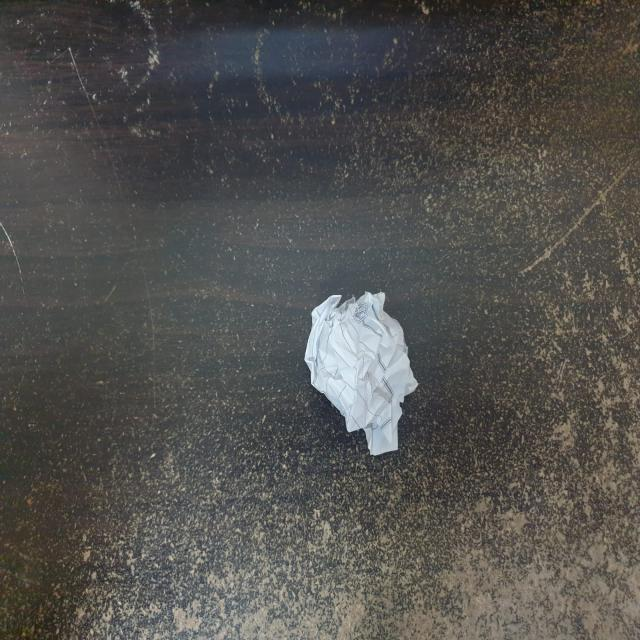Paper: (307, 288, 417, 456)
